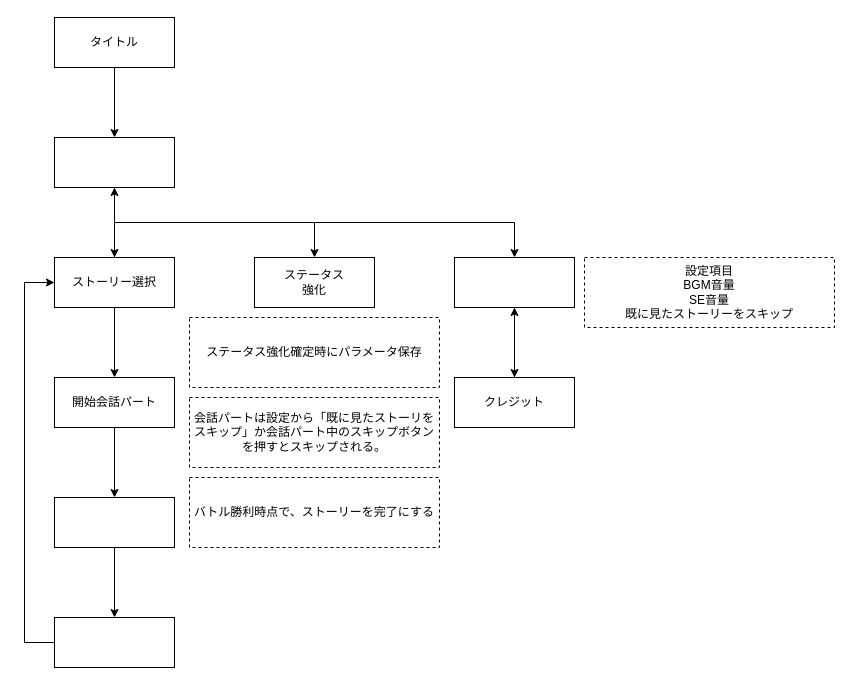
Image size: 852x685. Some labels were removed from this diagram. The shapes that lost their labels are listed below. From the top down, each one's centre as x and y in pixels, then its label:
At [114,162]: "メニュー選択".
At [514,282]: "設定".
At [114,522]: "バトル".
At [114,642]: "終了会話パート".
